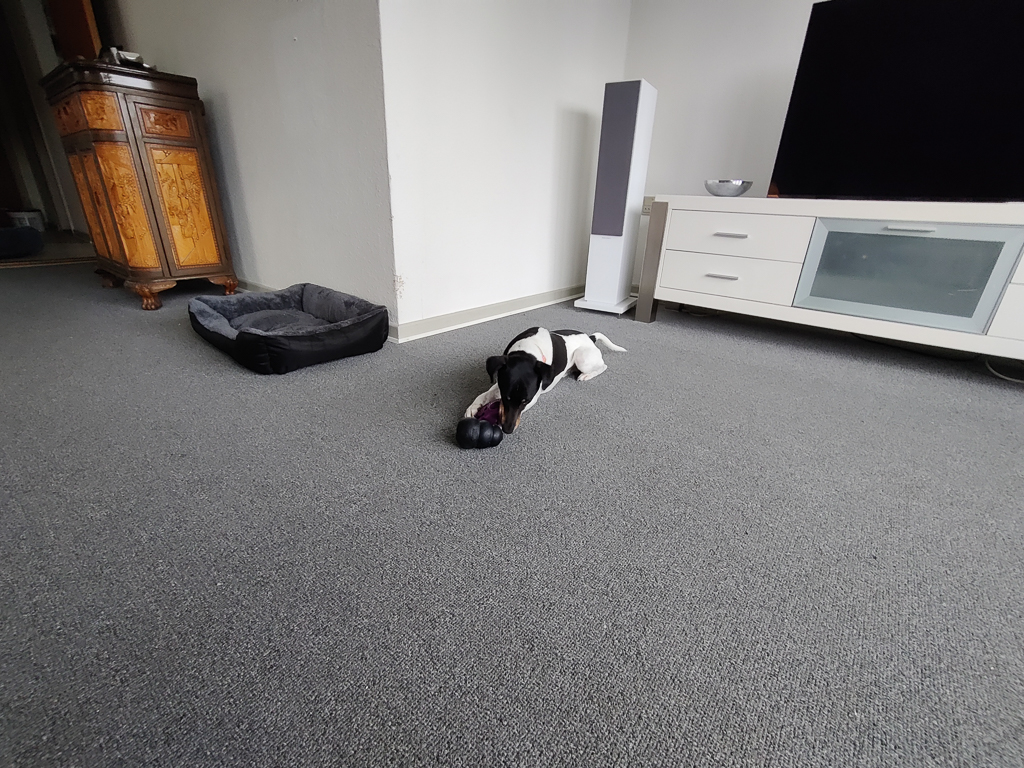Dog: (453, 320, 635, 440)
